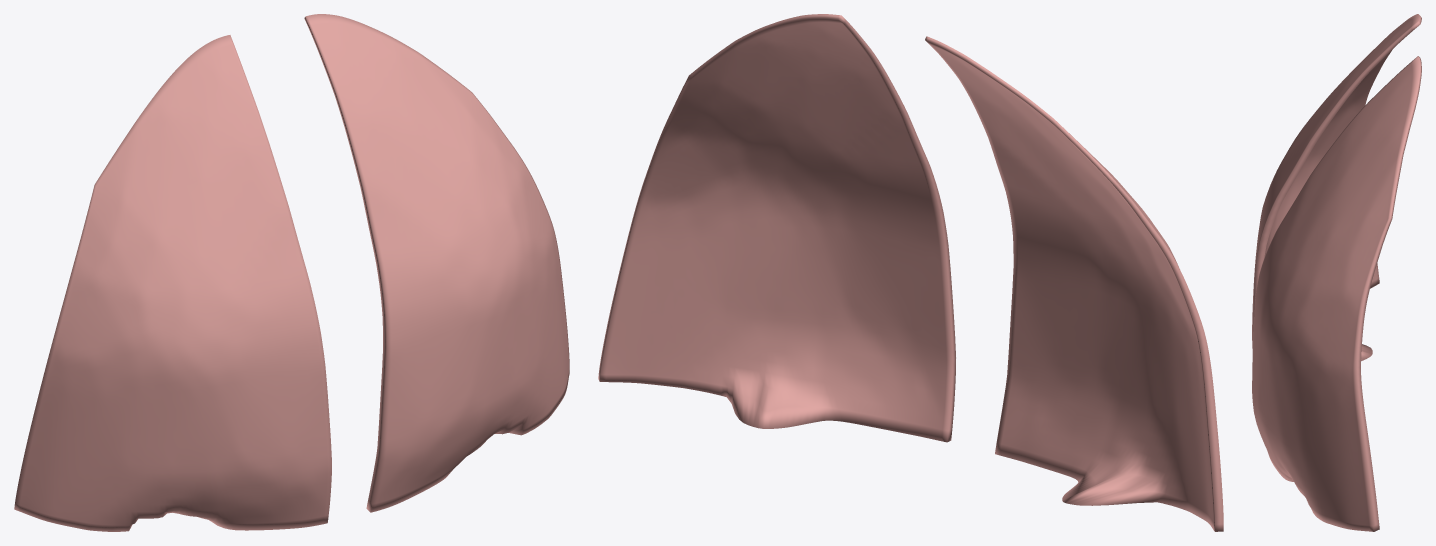
File: frontalis.glb
3 renders of one model, left to right at view 1: azimuth 30°, elevation 25°; view 2: azimuth 150°, elevation 25°; view 3: azimuth 270°, elevation 25°, orthographic. The views are drawn at different scales.
Visible parts, largest first — view 1: frontalis_R, frontalis_L; view 2: frontalis_L, frontalis_R; view 3: frontalis_L, frontalis_R.
Part boxes in pixels (x1,y1,x2,y2): frontalis_R: (14,35,331,531); frontalis_L: (304,14,569,512); frontalis_L: (598,14,955,442); frontalis_R: (925,36,1223,531); frontalis_L: (1252,56,1421,531); frontalis_R: (1252,14,1421,361).
Bounding box in the file's own units: 0.0993 × 0.074 × 0.0285.
